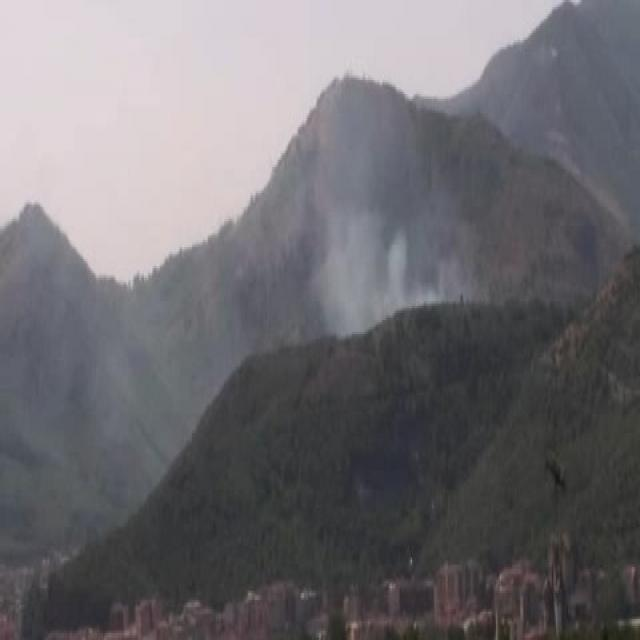smoke: (299, 129, 456, 335)
